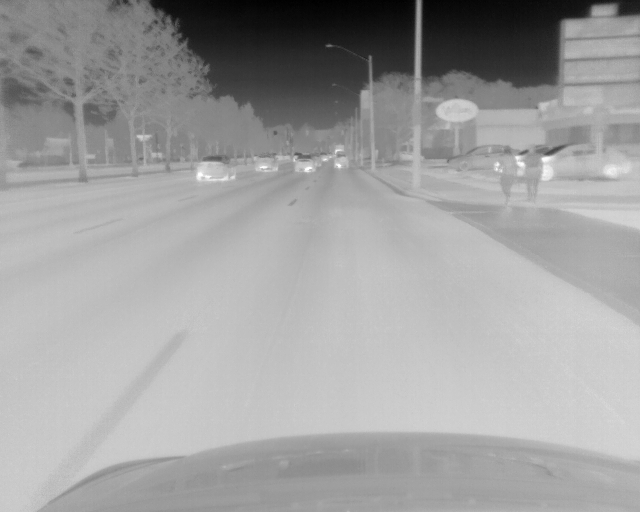car: (529, 141, 633, 180), (446, 142, 512, 173), (196, 154, 235, 181), (253, 156, 278, 173), (294, 155, 315, 172), (333, 155, 350, 170)
people: (520, 144, 544, 204), (498, 143, 516, 210)
